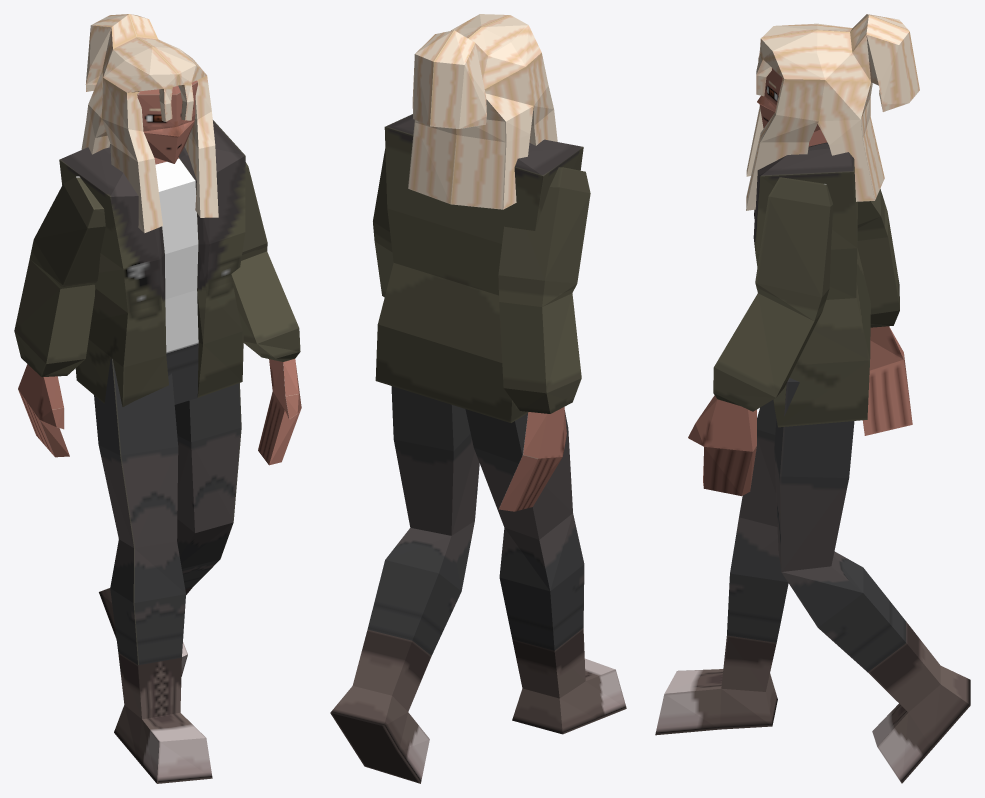
The model's file is Axel Model.obj.
3 views of the same model, side by side, from view 1: azimuth 30°, elevation 25°; view 2: azimuth 150°, elevation 25°; view 3: azimuth 270°, elevation 25° (orthographic). The views are drawn at different scales.
Parts seen in each view (by area): view 1: Default; view 2: Default; view 3: Default.
Part boxes in pixels (box(x1,y1,x2,y2)): Default: box(14, 14, 301, 783); Default: box(330, 14, 626, 783); Default: box(655, 14, 970, 783).
Bounding box in the file's own units: 7.93 × 24.93 × 9.64.
Materials: 1 (1 with a texture image).
